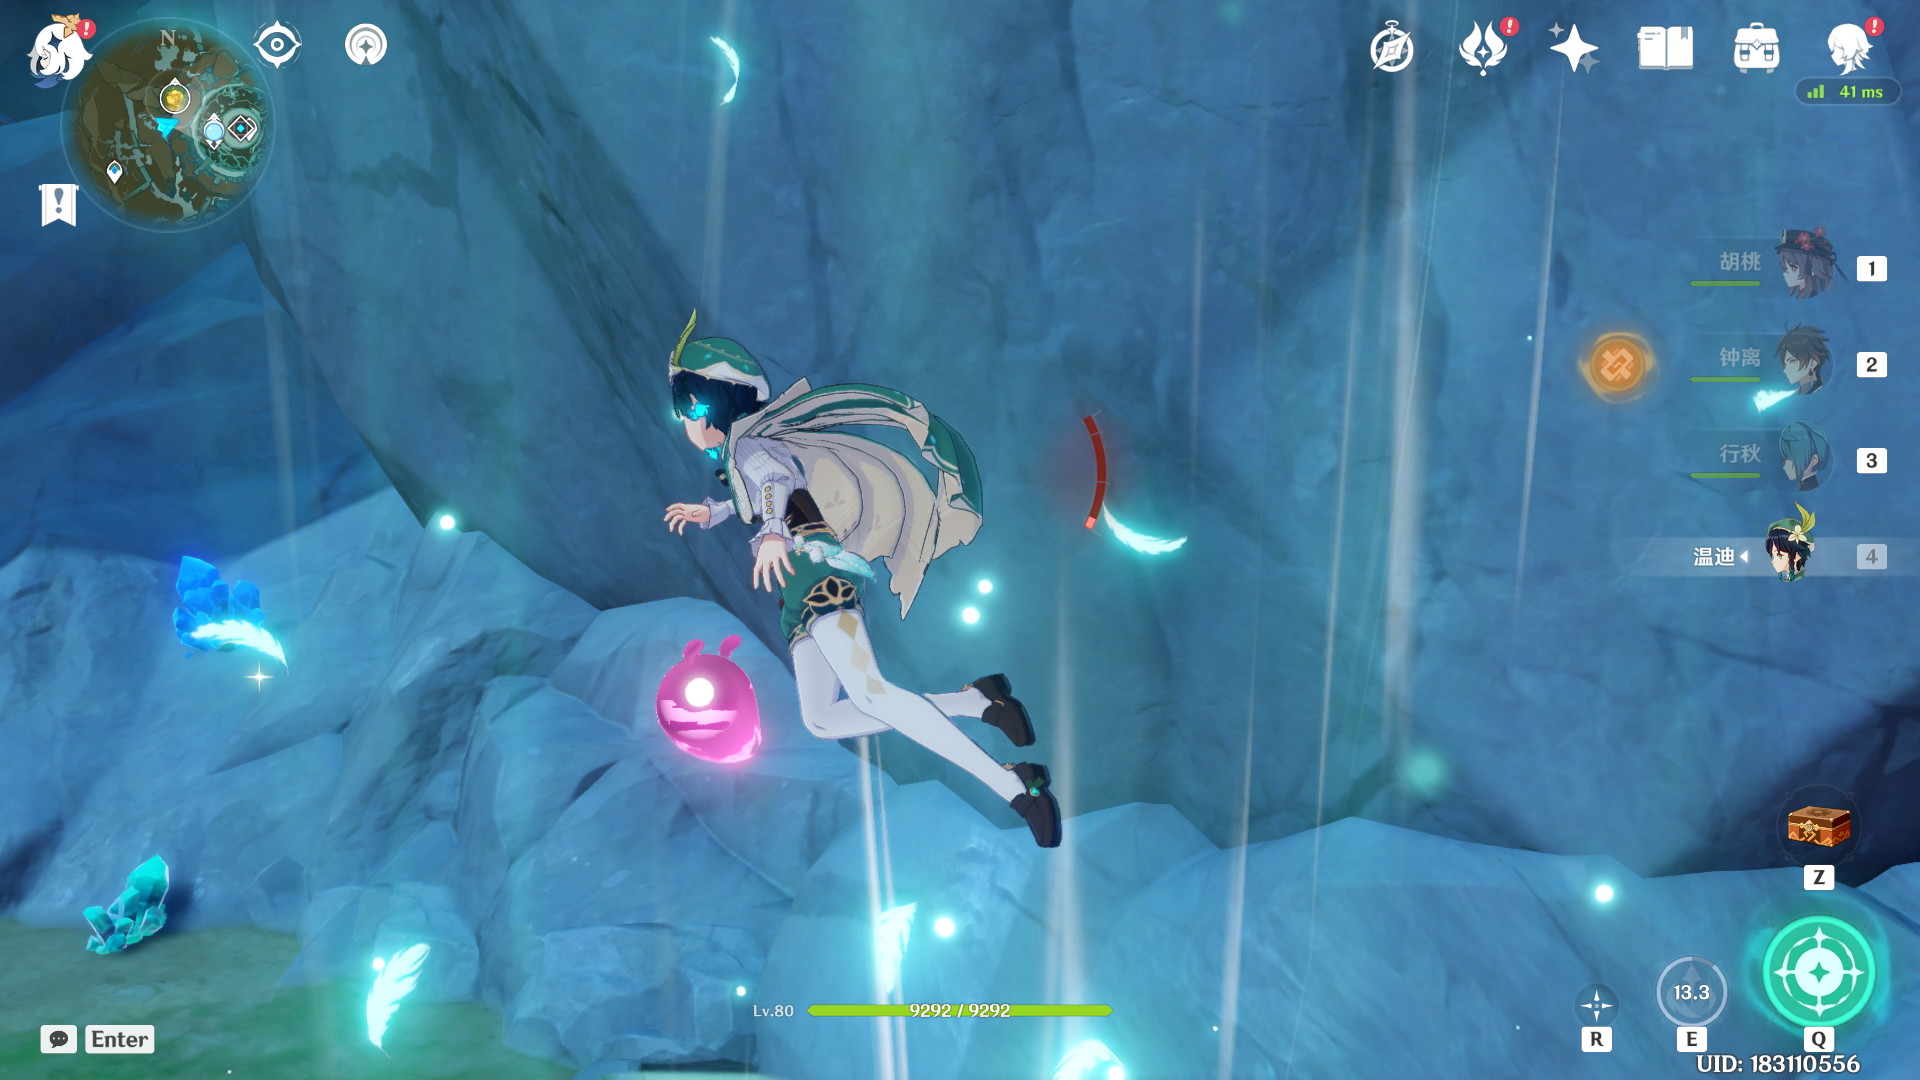character: (620, 278, 1251, 906)
